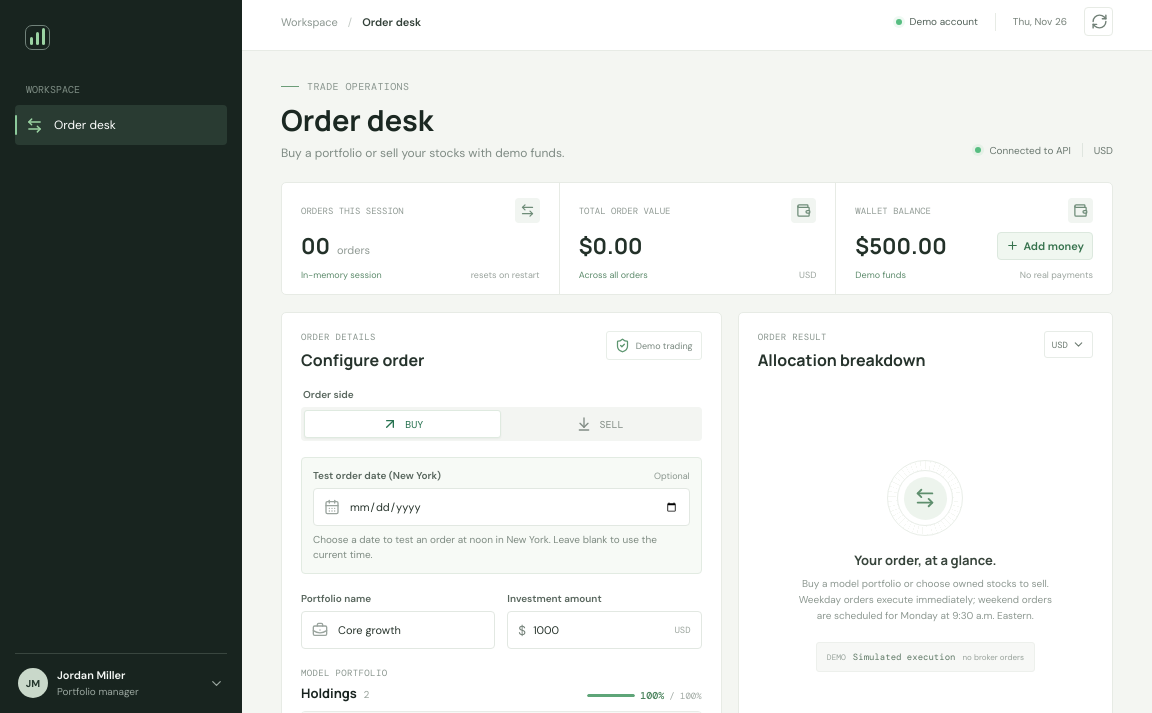
Test case: order desk › shows instant weekday SELL execution from the order response
Expected: the text "Connected to API" is shown, top-left (989, 144), bottom-right (1071, 156)
Click the button "SELL". click: (600, 424)
box: top-left (501, 410), bottom-right (699, 438)
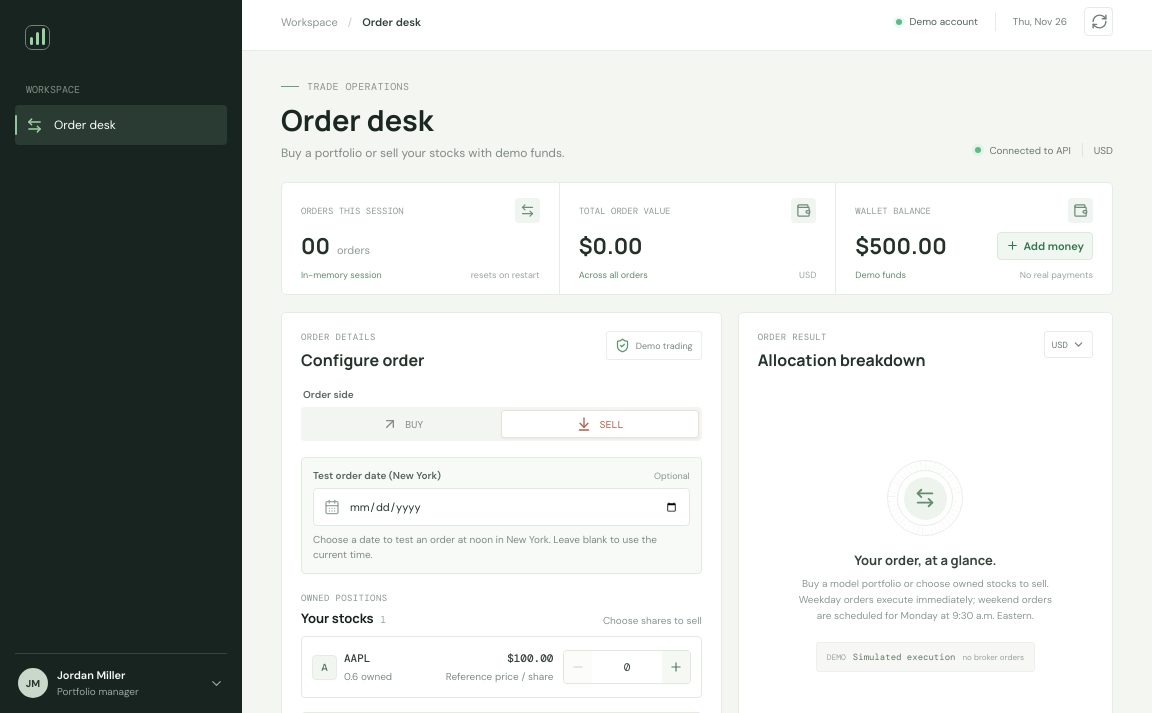
Replace the text in the number field named "Sell quantity AAPL" with "0.1". click: (627, 667)
box: top-left (592, 651), bottom-right (662, 683)
(page scrolled)
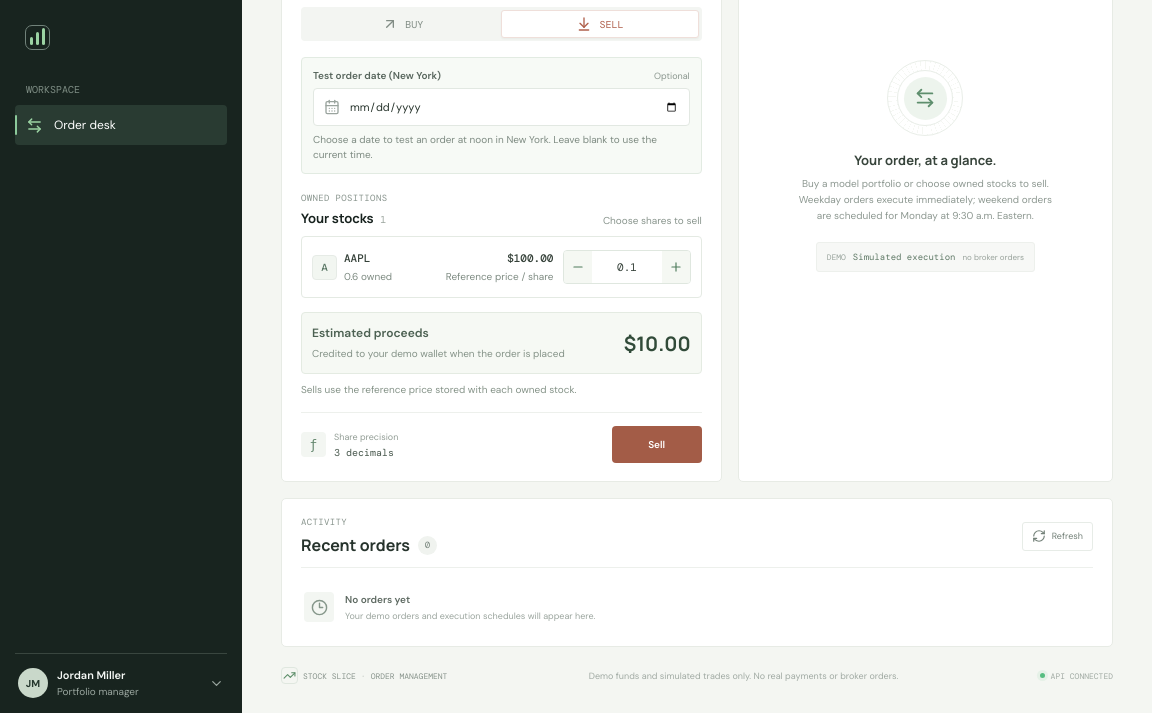
Click the button "Sell". click: (657, 444)
box: top-left (612, 426), bottom-right (702, 463)
(page scrolled)
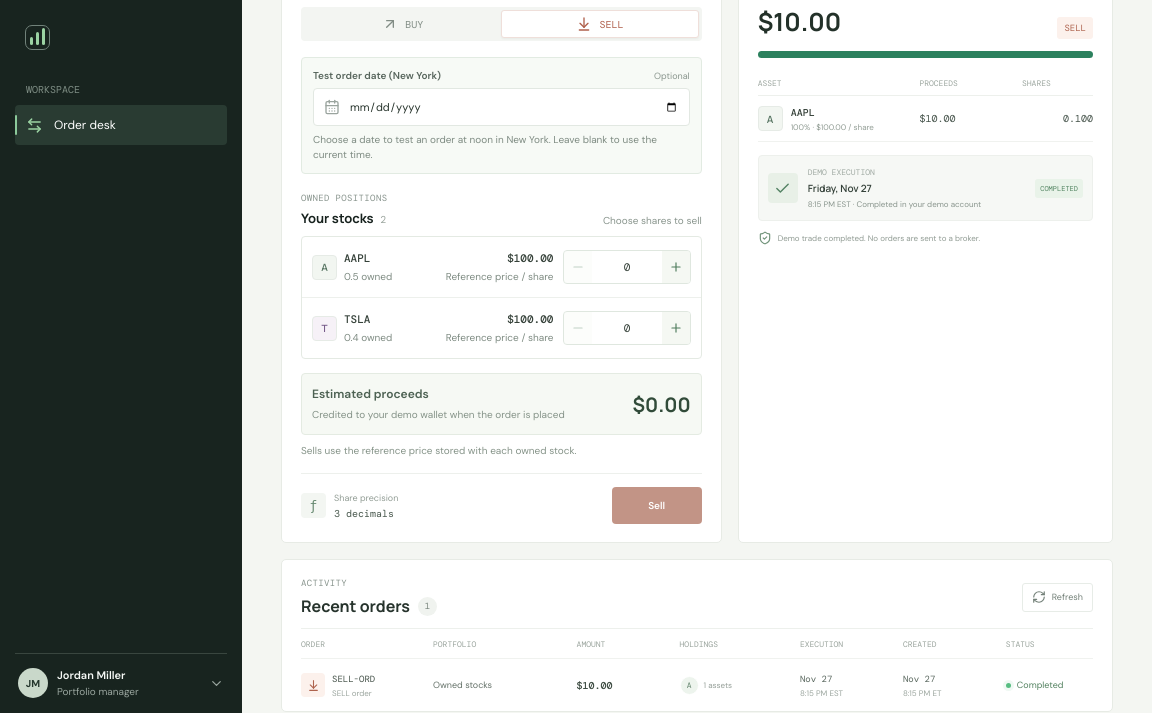
Now the element "DEMO EXECUTION" shows "Friday, Nov 27", box top-left (808, 181), bottom-right (872, 195)
Now the element "DEMO EXECUTION" shows "Completed", box top-left (1040, 184), bottom-right (1078, 192)
Now the text "Scheduled" is gone
